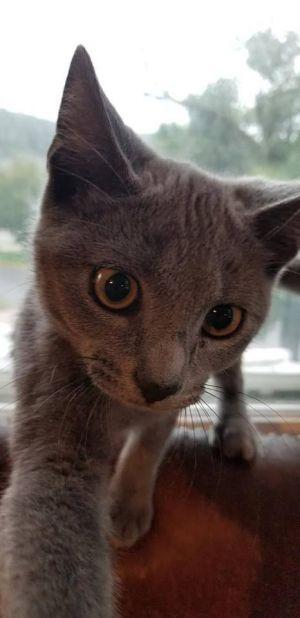rblue: (14, 21, 300, 464)
